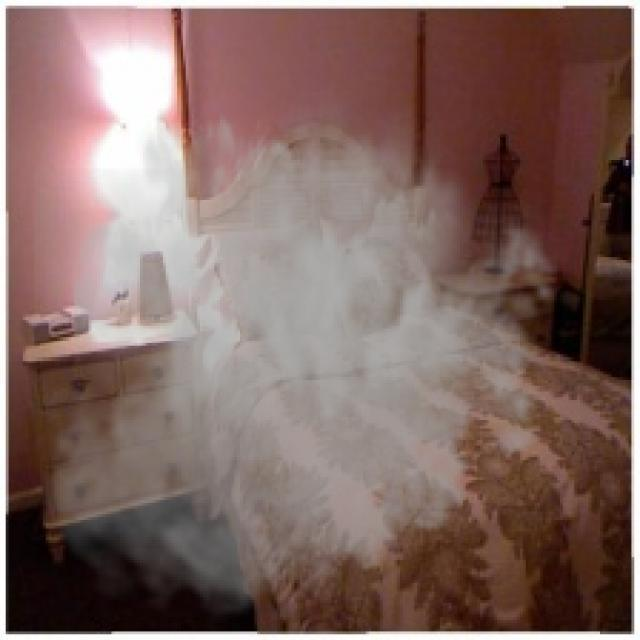Smoke: (34, 71, 574, 634)
